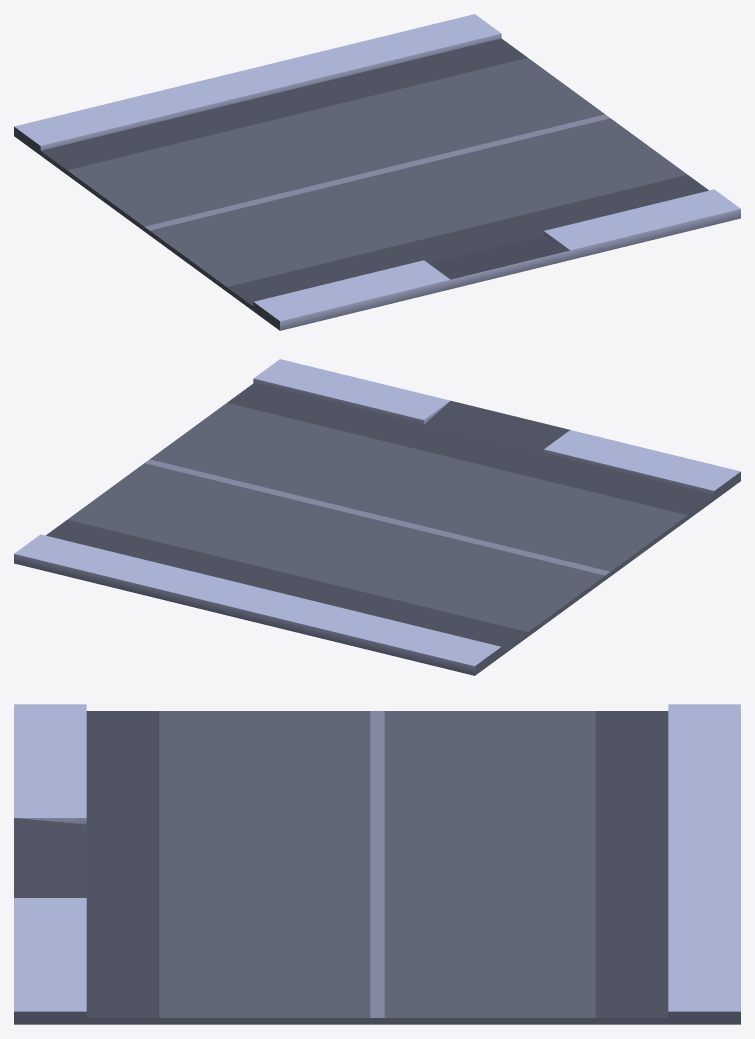
File: road-driveway-single.glb
The picture shows the model from 3 angles, top to bottom: view 1: azimuth 30°, elevation 25°; view 2: azimuth 150°, elevation 25°; view 3: azimuth 270°, elevation 25°; orthographic projection. The views are drawn at different scales.
Visible parts, largest first — view 1: road-driveway-single; view 2: road-driveway-single; view 3: road-driveway-single.
Part boxes in pixels (x1=…): road-driveway-single: x1=14, y1=14, x2=740, y2=330; road-driveway-single: x1=14, y1=359, x2=740, y2=675; road-driveway-single: x1=14, y1=704, x2=740, y2=1024.
Size of the model in its own units: 1 by 0.02 by 1.
Materials: 1 (1 with a texture image).
